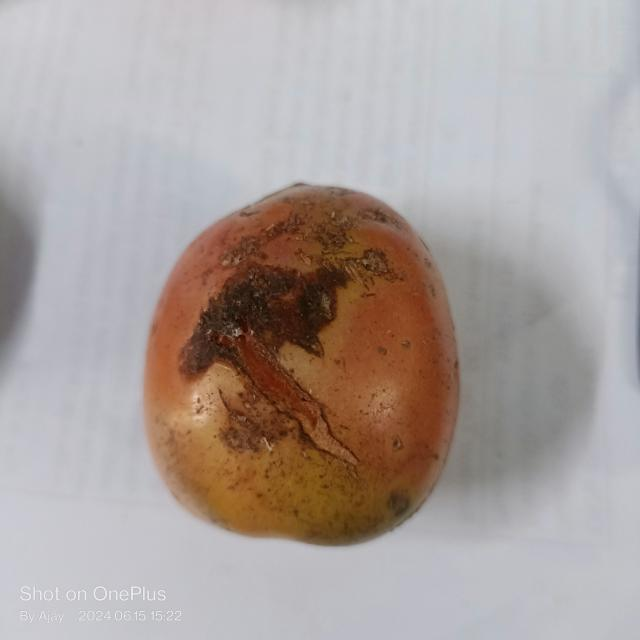tomato_cracking: (178, 256, 367, 373), (229, 348, 369, 476)
